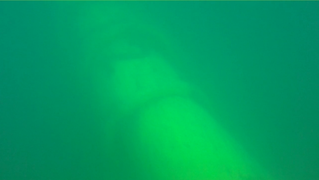2: (95, 40, 151, 77)
pipe: (69, 1, 277, 179)
